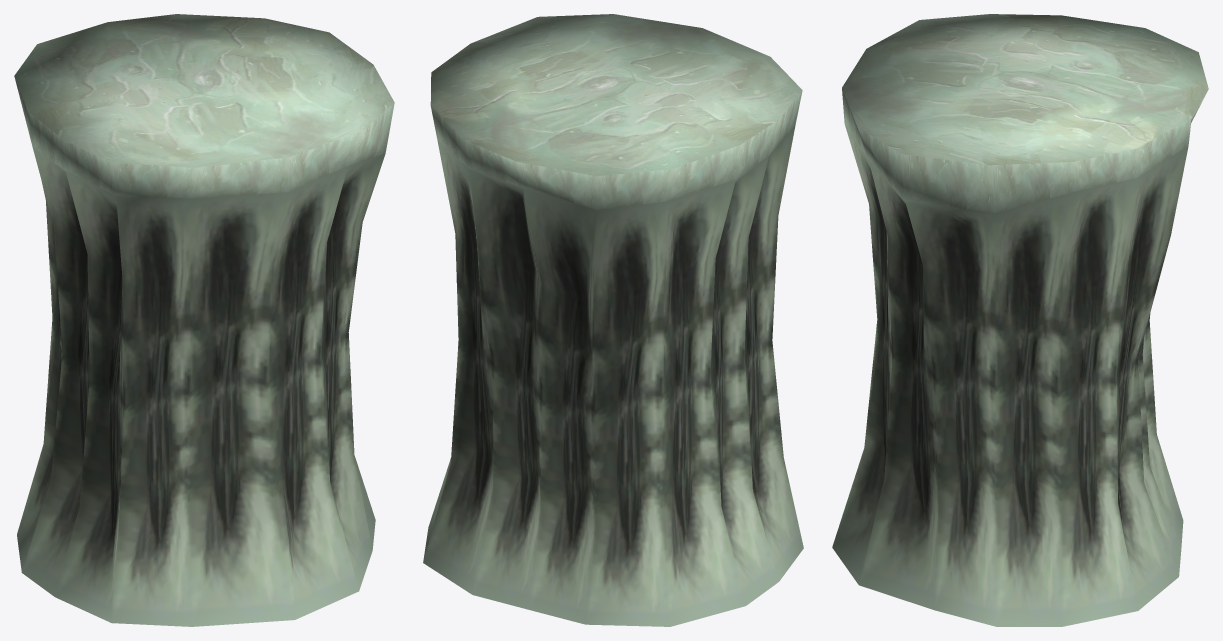
The model's file is INST_TROLLHOLE_PLATFORM4M.fbx.
The picture shows the model from 3 angles, left to right: view 1: azimuth 30°, elevation 25°; view 2: azimuth 150°, elevation 25°; view 3: azimuth 270°, elevation 25°; orthographic projection.
Visible parts, largest first — view 1: INST_TROLLHOLE_PLATFORM4M; view 2: INST_TROLLHOLE_PLATFORM4M; view 3: INST_TROLLHOLE_PLATFORM4M.
Boxes of the visible parts, x1,y1,x2,y2 form: INST_TROLLHOLE_PLATFORM4M: [14, 14, 394, 626]; INST_TROLLHOLE_PLATFORM4M: [423, 14, 803, 626]; INST_TROLLHOLE_PLATFORM4M: [832, 14, 1208, 626].
Size of the model in its own units: 29320 by 41119 by 29959.
Materials: 2 (2 with a texture image).
